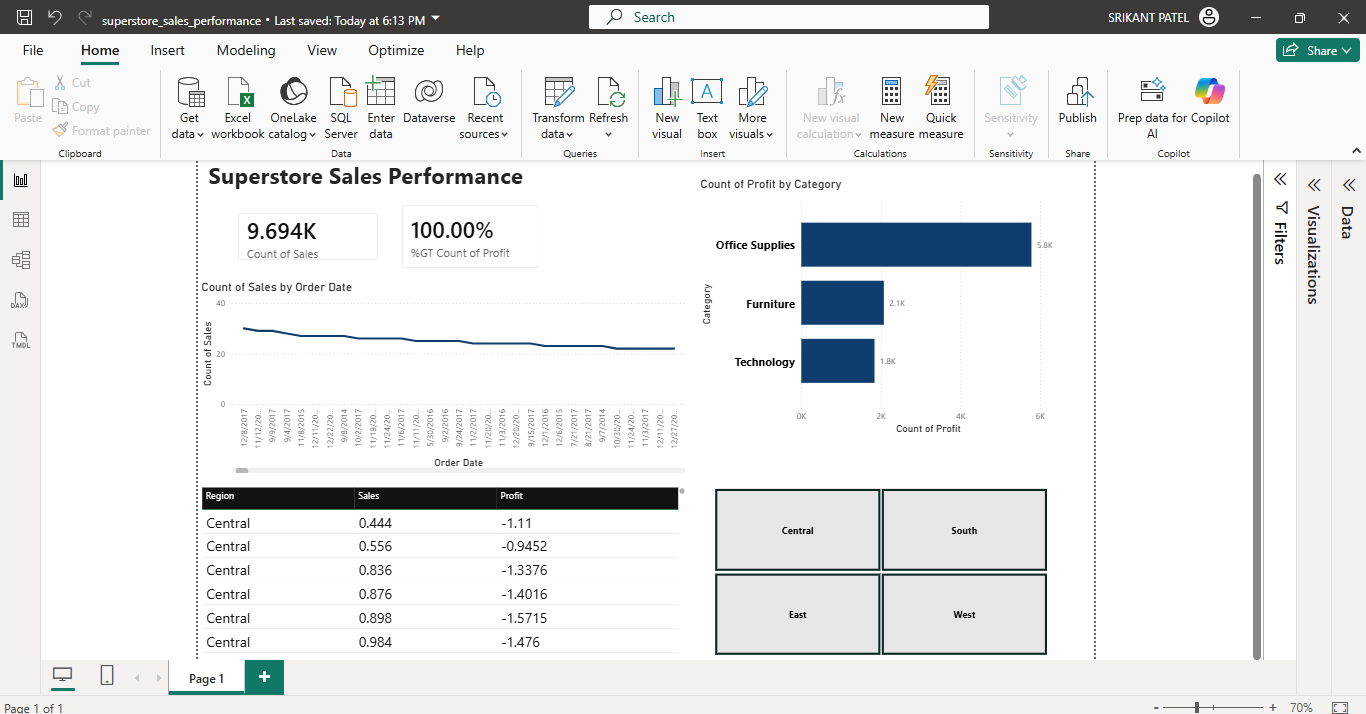

Layout of this report page (visuals, bound fields, positions):
{"tool":"powerbi","page":{"name":"Page 1","canvas":[1280,720],"ordinal":0},"visuals":[{"type":"textbox","box":[10.1,0,720.6,280.5],"z":0},{"type":"cardVisual","fields":{"Data":["Min(superstore_clean.Profit)"]},"box":[274.3,53.5,229.4,124.2],"z":1000},{"type":"lineChart","fields":{"Category":["superstore_clean.Order Date"],"Y":["CountNonNull(superstore_clean.Sales)"]},"box":[0,177.1,701.4,281.4],"z":2000},{"type":"clusteredBarChart","fields":{"Category":["superstore_clean.Category"],"Y":["CountNonNull(superstore_clean.Profit)"]},"box":[713,29.8,524.5,372.8],"z":3000},{"type":"tableEx","fields":{"Values":["superstore_clean.Region","superstore_clean.Sales","superstore_clean.Profit"]},"box":[0,468.6,701.4,251.4],"z":4000},{"type":"cardVisual","fields":{"Data":["CountNonNull(superstore_clean.Sales)"]},"box":[40,64.3,234.3,101.4],"z":5000},{"type":"slicer","fields":{"Values":["superstore_clean.Region"]},"box":[713,469,524,251],"z":5001}]}

Visuals, with their boxes on the page's 1280x720 design canvas (x1, y1, x2, y2). These are canvas units, not pixel positions in the 1366x714 screenshot, which may show the page scaled, cropped or inside an application window:
textbox: [10, 0, 731, 280]
cardVisual - Min(superstore_clean.Profit): [274, 54, 504, 178]
lineChart - superstore_clean.Order Date x CountNonNull(superstore_clean.Sales): [0, 177, 701, 458]
clusteredBarChart - superstore_clean.Category x CountNonNull(superstore_clean.Profit): [713, 30, 1238, 403]
tableEx - superstore_clean.Region x superstore_clean.Sales: [0, 469, 701, 720]
cardVisual - CountNonNull(superstore_clean.Sales): [40, 64, 274, 166]
slicer - superstore_clean.Region: [713, 469, 1237, 720]
